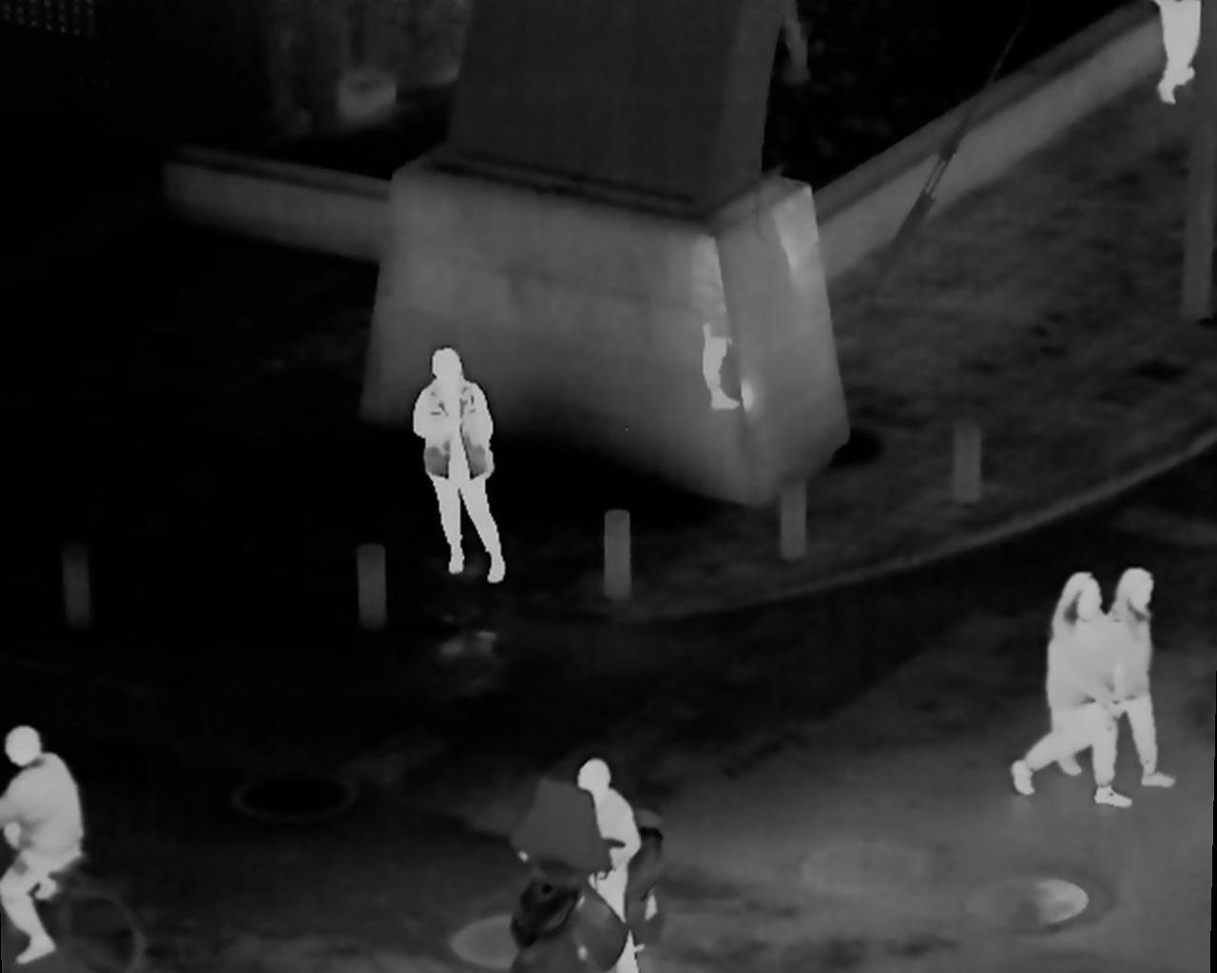person: (1007, 580, 1120, 817), (410, 349, 504, 591), (565, 759, 656, 972), (1108, 571, 1186, 800)
